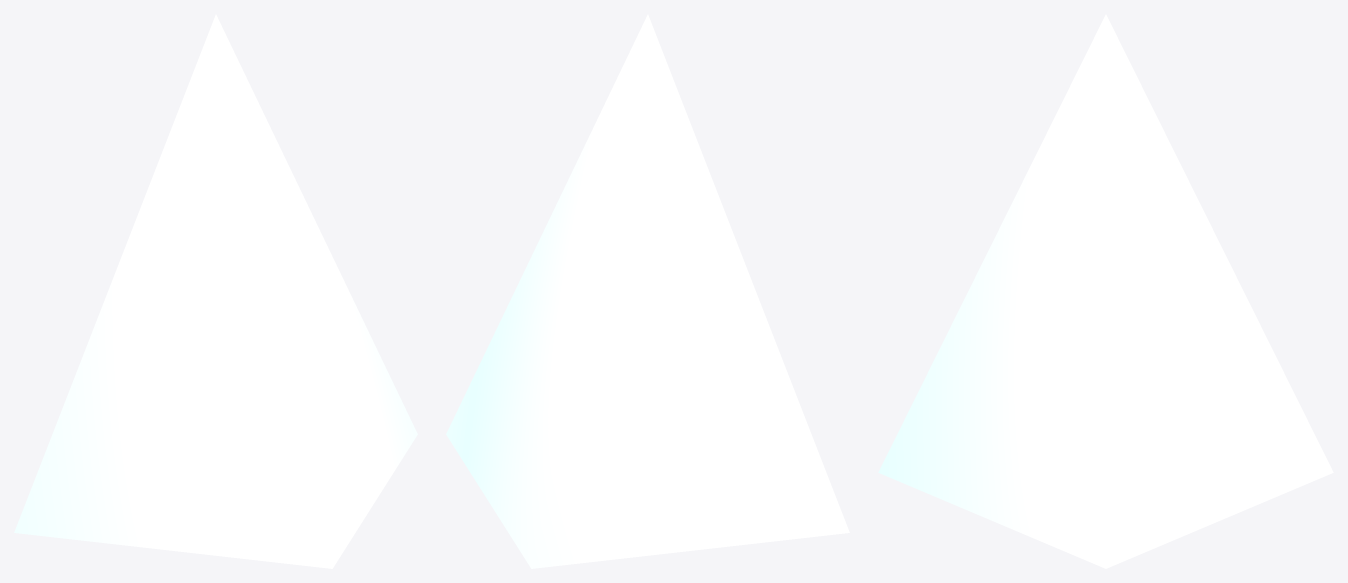
File: SM_cv_flame_blue.glb
The picture shows the model from 3 angles, left to right: view 1: azimuth 30°, elevation 25°; view 2: azimuth 150°, elevation 25°; view 3: azimuth 270°, elevation 25°; orthographic projection. The views are drawn at different scales.
Visible parts, largest first — view 1: SM_cv_flame_blue; view 2: SM_cv_flame_blue; view 3: SM_cv_flame_blue.
Boxes of the visible parts, bbox=[...] form: SM_cv_flame_blue: bbox=[14, 14, 417, 568]; SM_cv_flame_blue: bbox=[446, 14, 849, 568]; SM_cv_flame_blue: bbox=[878, 14, 1333, 568].
Size of the model in its own units: 0.9 by 1 by 0.9.
